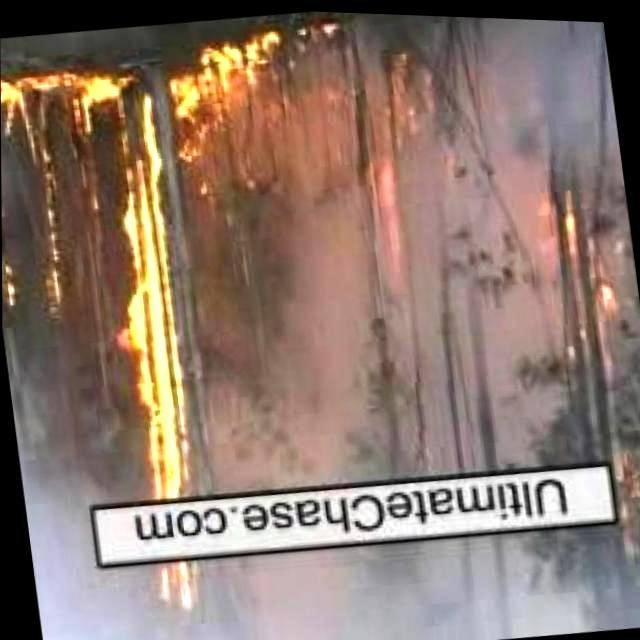fire: (93, 69, 207, 604), (158, 27, 306, 169), (0, 75, 46, 145)
